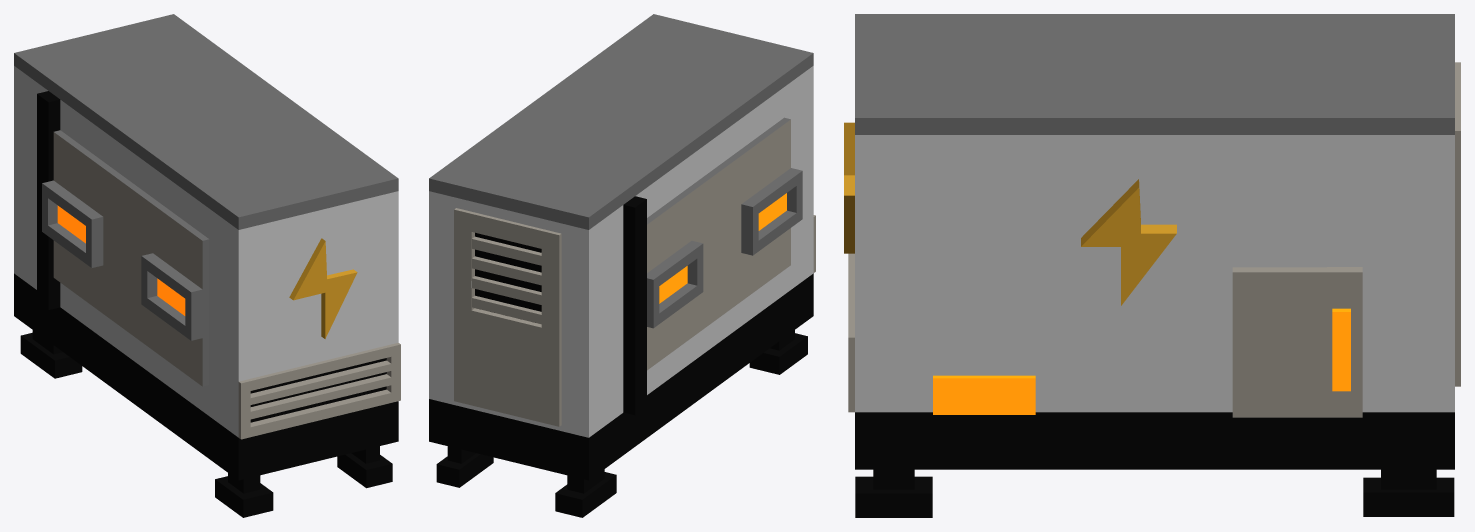
File: POWERBOX.fbx
The picture shows the model from 3 angles, left to right: view 1: azimuth 30°, elevation 25°; view 2: azimuth 150°, elevation 25°; view 3: azimuth 270°, elevation 25°; orthographic projection. The views are drawn at different scales.
Parts seen in each view (by area): view 1: Cube; view 2: Cube; view 3: Cube.
Part boxes in pixels (left/top/right/bottom): Cube: left=14, top=14, right=400, bottom=517; Cube: left=429, top=14, right=815, bottom=517; Cube: left=844, top=14, right=1460, bottom=517.
Size of the model in its own units: 471 by 709 by 982.
